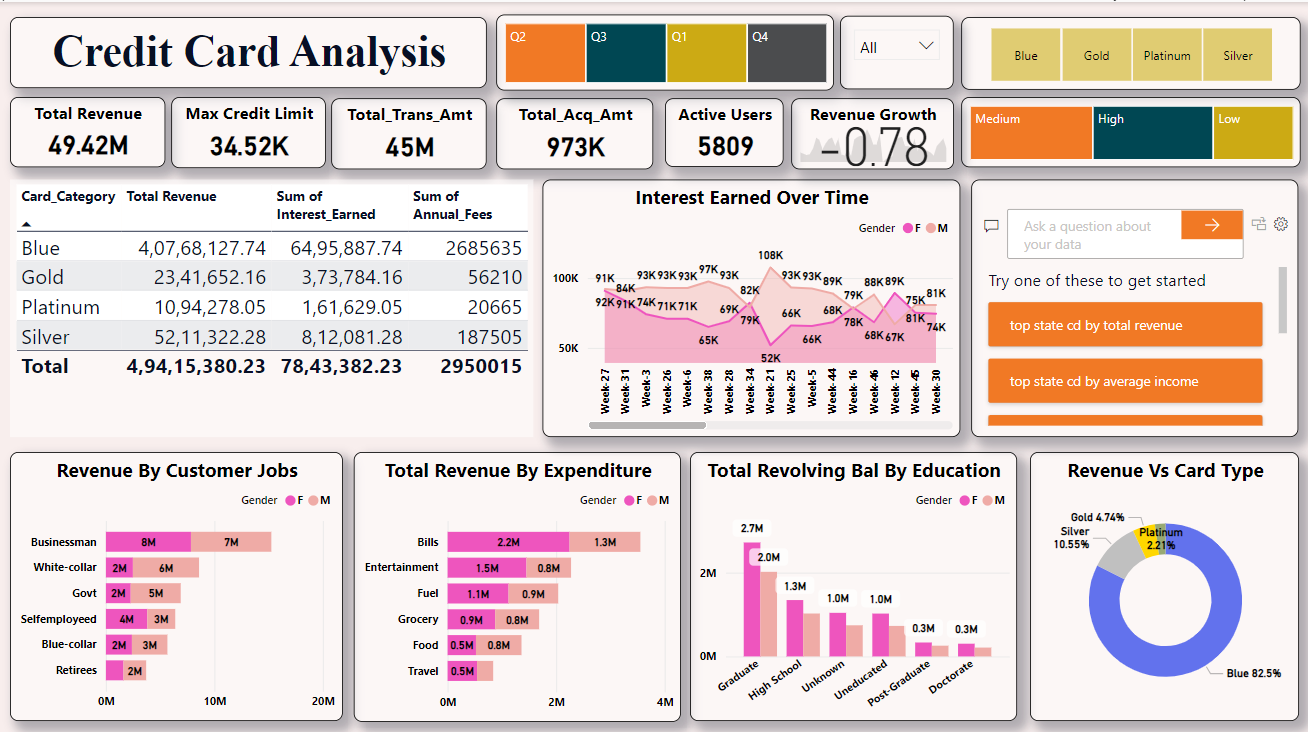

What the dashboard file says about the page in this screenshot:
{"tool":"powerbi","page":{"name":"Credit_Card1","canvas":[1280,720],"ordinal":1},"visuals":[{"type":"textbox","box":[9.6,15.1,466.6,70],"z":0},{"type":"card","title":"Total Revenue","fields":{"Values":["Quick Measures.Total Revenue"]},"box":[9.8,92.9,151.6,68.5],"z":1000},{"type":"card","title":"Max Credit Limit","fields":{"Values":["Max(credit_card.Credit_Limit)"]},"box":[167.4,93.3,150.9,70],"z":2000},{"type":"card","title":"Total_Trans_Amt","fields":{"Values":["Sum(credit_card.Total_Trans_Amt)"]},"box":[323.8,94.7,152.3,70],"z":3000},{"type":"barChart","title":"Revenue By Customer Jobs","fields":{"Y":["Quick Measures.Total Revenue"],"Series":["customer.Gender"],"Category":["customer.Customer_Job"]},"box":[9.6,440.5,325.2,263.5],"z":4000},{"type":"barChart","title":"Total Revenue By Expenditure","fields":{"Category":["credit_card.Exp Type"],"Series":["customer.Gender"],"Y":["Sum(credit_card.Total_Revolving_Bal)"]},"box":[346.1,440.2,320.4,264.1],"z":5000},{"type":"lineClusteredColumnComboChart","title":"Total Revolving Bal By Education","fields":{"Category":["customer.Education_Level"],"Y":["Sum(credit_card.Total_Revolving_Bal)"],"Series":["customer.Gender"]},"box":[675.1,440.5,319.7,263.5],"z":6000},{"type":"card","title":"Total_Acq_Amt ","fields":{"Values":["Sum(credit_card.Customer_Acq_Cost)"]},"box":[485.8,94.7,153.7,70],"z":7000},{"type":"donutChart","title":"Revenue Vs Card Type","fields":{"Category":["credit_card.Card_Category"],"Y":["Quick Measures.Total Revenue"]},"box":[1007.2,440.5,263.5,263.5],"z":8000},{"type":"areaChart","title":"Interest Earned Over Time","fields":{"Y":["Sum(credit_card.Interest_Earned)"],"Category":["credit_card.Week_Num"],"Series":["customer.Gender"]},"box":[530.7,173.6,408.4,251.9],"z":9000},{"type":"slicer","fields":{"Values":["credit_card.Card_Category"]},"box":[940,15.1,332.1,71.4],"z":10000},{"type":"treemap","fields":{"Group":["credit_card.Qtr"],"Values":["CountNonNull(customer.Client_Num)"]},"box":[485.8,12.3,330.7,74.1],"z":11000},{"type":"treemap","fields":{"Values":["Sum(customer.Income)"],"Group":["customer.Income Category"]},"box":[940,93.3,332.1,68.6],"z":12000},{"type":"slicer","fields":{"Values":["customer.Marital_Status"]},"box":[821.7,13.5,111.3,72.1],"z":13000},{"type":"kpi","title":"Revenue Growth","fields":{"Indicator":["Quick Measures.Revenue Growth"],"TrendLine":["credit_card.Week_Start_Date"]},"box":[774.1,94.2,159,69.7],"z":14000},{"type":"card","title":"Active Users","fields":{"Values":["Quick Measures.Active Users"]},"box":[650.5,94.2,116.2,67.3],"z":15000},{"type":"qnaVisual","box":[950.1,173.6,320.4,251.9],"z":16000},{"type":"tableEx","fields":{"Values":["credit_card.Card_Category","Quick Measures.Total Revenue","Sum(credit_card.Interest_Earned)","Sum(credit_card.Annual_Fees)"]},"box":[9.8,173.6,512.4,251.9],"z":17000}]}

Visuals, with their boxes in screenshot pixels (x1, y1, x2, y2), scaled from the page's 1280x720 canvas onto the 1308x732 screenshot:
textbox: left=10, top=15, right=487, bottom=87
"Total Revenue" card: left=10, top=94, right=165, bottom=164
"Max Credit Limit" card: left=171, top=95, right=325, bottom=166
"Total_Trans_Amt" card: left=331, top=96, right=487, bottom=167
"Revenue By Customer Jobs" barChart: left=10, top=448, right=342, bottom=716
"Total Revenue By Expenditure" barChart: left=354, top=448, right=681, bottom=716
"Total Revolving Bal By Education" lineClusteredColumnComboChart: left=690, top=448, right=1017, bottom=716
"Total_Acq_Amt " card: left=496, top=96, right=653, bottom=167
"Revenue Vs Card Type" donutChart: left=1029, top=448, right=1298, bottom=716
"Interest Earned Over Time" areaChart: left=542, top=176, right=960, bottom=433
slicer - credit_card.Card_Category: left=961, top=15, right=1300, bottom=88
treemap - credit_card.Qtr x CountNonNull(customer.Client_Num): left=496, top=13, right=834, bottom=88
treemap - Sum(customer.Income) x customer.Income Category: left=961, top=95, right=1300, bottom=165
slicer - customer.Marital_Status: left=840, top=14, right=953, bottom=87
"Revenue Growth" kpi: left=791, top=96, right=954, bottom=167
"Active Users" card: left=665, top=96, right=783, bottom=164
qnaVisual: left=971, top=176, right=1298, bottom=433
tableEx - credit_card.Card_Category x Quick Measures.Total Revenue: left=10, top=176, right=534, bottom=433
